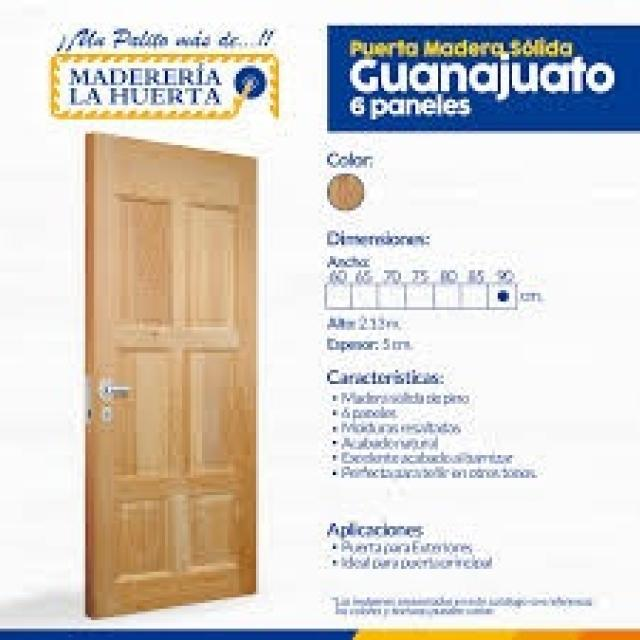door: (82, 130, 259, 618)
